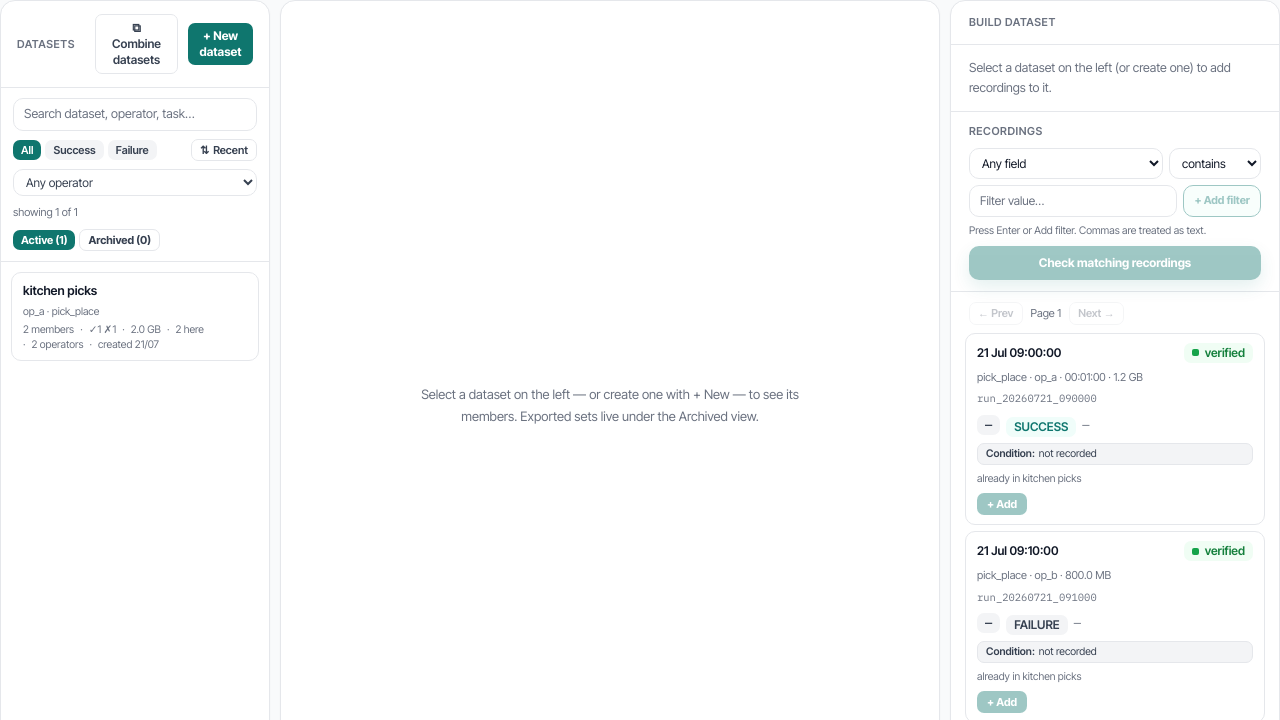
E-19b: Remove on a membership deleted elsewhere reports the server refusal and converges
Click the button that starts with "kitchen picks": (135, 317) [11, 272, 259, 361]
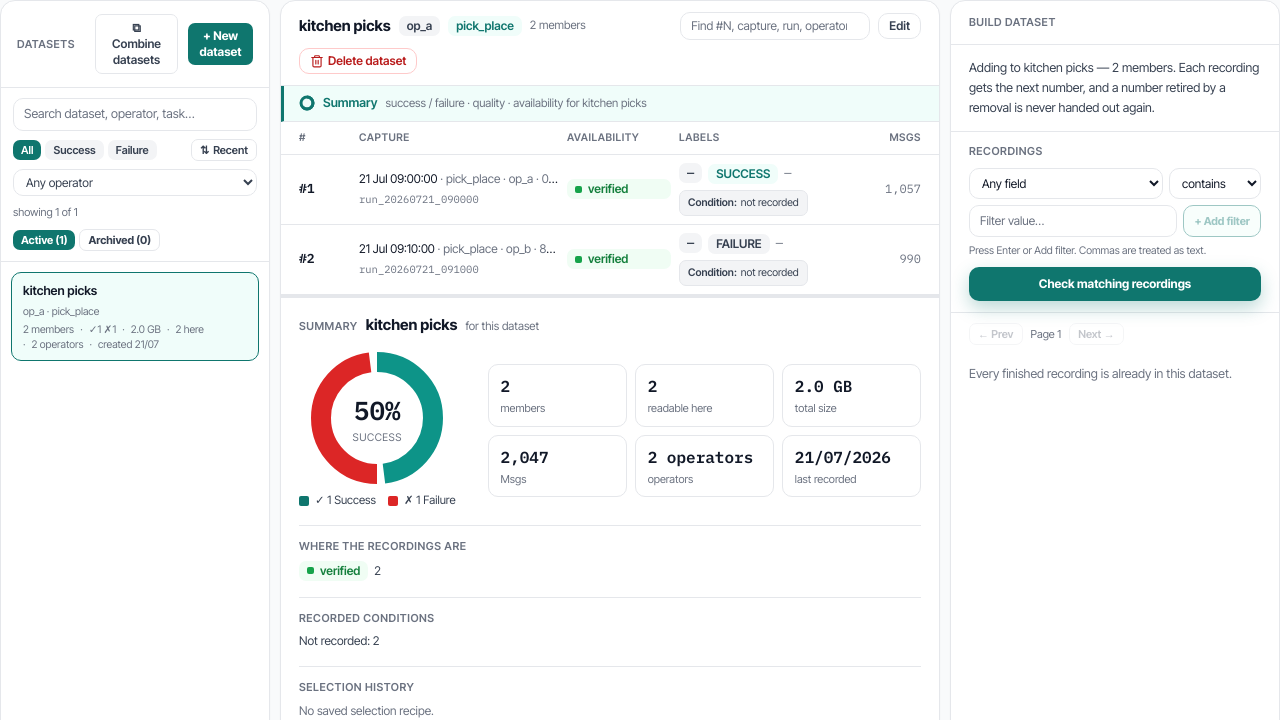
Click the button with aria-label "cap-b": (610, 258) [281, 224, 939, 294]
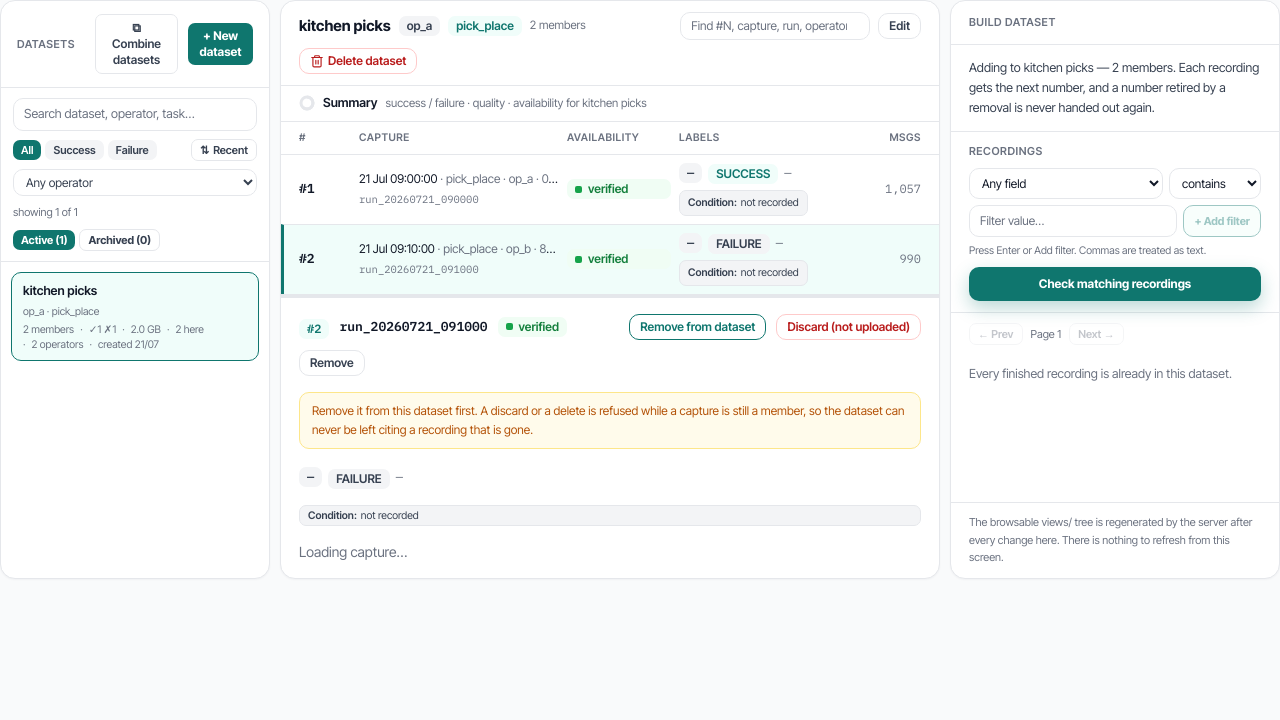
Check: the button with test id "remove-member-btn" is shown
Click the button with test id "remove-member-btn": (698, 326) [629, 314, 766, 340]
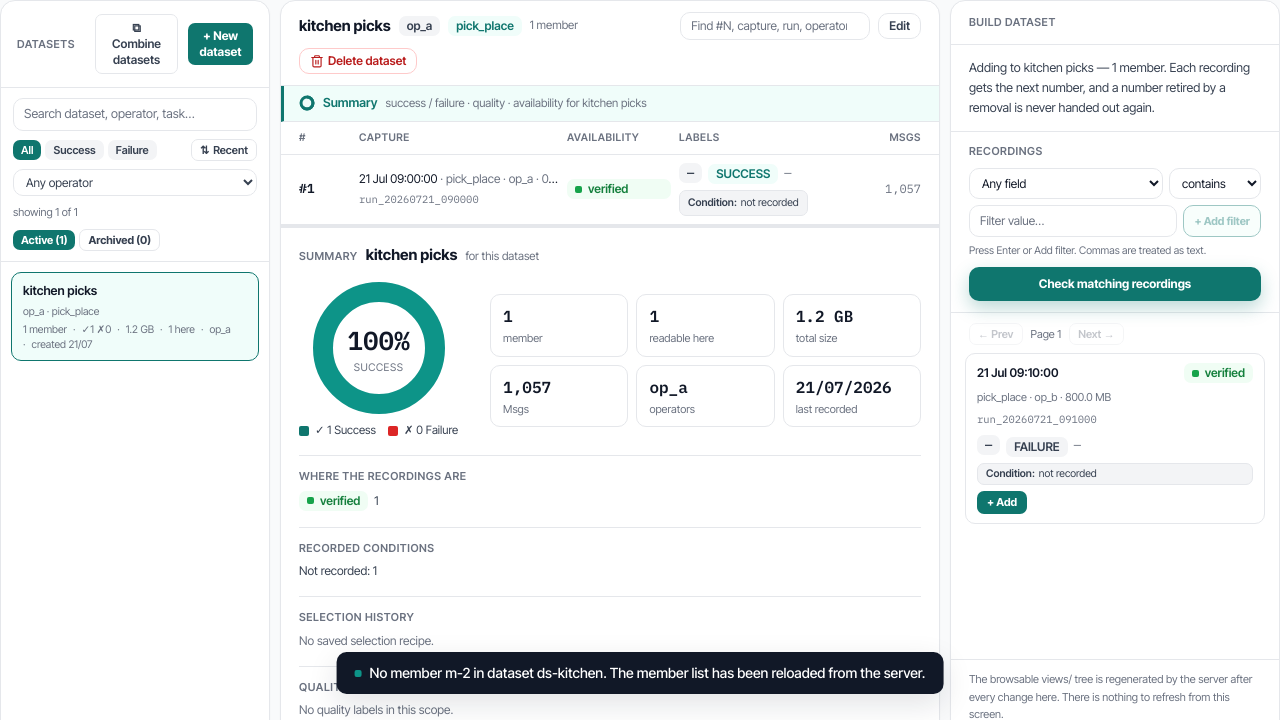
Check: the element with test id "toast" shows "No member m-2 in dataset ds-kitchen.", box [370, 664, 925, 681]
Check: the element with test id "toast" shows "reloaded from the server", box [370, 664, 925, 681]
Check: the text with test id "dataset-scope-count" reads "1 member", box [530, 18, 578, 32]
